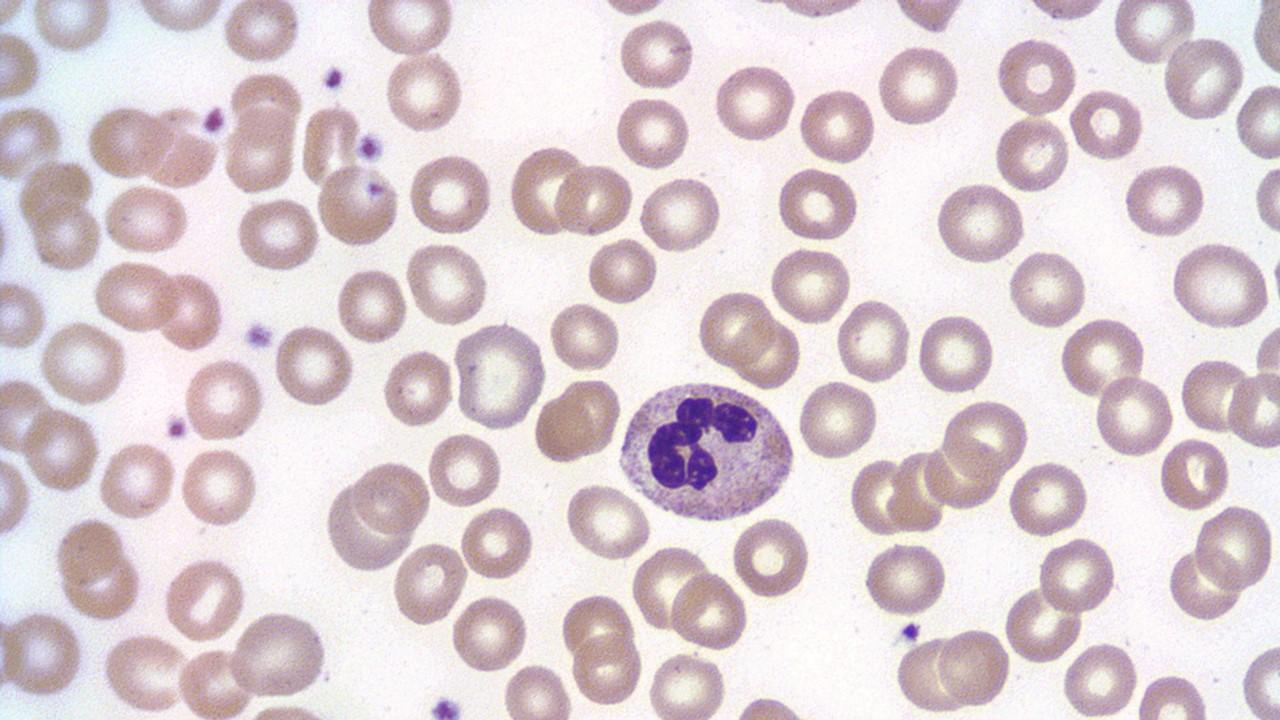Platelets: (241, 318, 276, 353), (426, 691, 468, 720), (355, 129, 386, 165), (200, 101, 228, 138), (164, 410, 192, 442), (898, 620, 924, 643)
RBC: (450, 320, 549, 430), (1169, 238, 1275, 331), (226, 609, 333, 700), (39, 317, 129, 409), (1193, 498, 1277, 596), (506, 142, 588, 240), (932, 180, 1025, 266), (403, 238, 491, 328), (406, 148, 494, 238), (160, 553, 247, 643), (1057, 315, 1147, 402), (1161, 31, 1245, 124), (98, 632, 193, 714), (3, 606, 84, 701), (874, 42, 962, 129), (314, 161, 400, 250), (272, 320, 356, 411), (182, 356, 266, 444), (383, 47, 465, 137), (730, 512, 812, 602), (710, 61, 796, 146), (178, 442, 259, 532), (629, 542, 708, 634), (992, 32, 1076, 118), (768, 243, 854, 327), (1006, 245, 1088, 333), (797, 376, 880, 462), (448, 591, 532, 675), (1037, 532, 1119, 618), (861, 538, 947, 620), (915, 310, 996, 397), (234, 194, 321, 275), (84, 102, 172, 182), (564, 481, 652, 561), (834, 296, 912, 386), (774, 163, 860, 244), (669, 568, 750, 654), (943, 396, 1030, 476), (24, 405, 101, 495), (1003, 581, 1083, 667), (638, 174, 724, 254), (1092, 373, 1172, 459), (798, 82, 878, 168), (96, 438, 177, 522), (1006, 458, 1090, 539), (1121, 161, 1207, 240), (222, 106, 298, 195), (390, 540, 466, 629), (694, 287, 774, 370), (103, 182, 192, 256), (936, 624, 1012, 710), (93, 258, 179, 334), (612, 92, 692, 173), (992, 112, 1071, 194), (1060, 638, 1140, 718), (1177, 354, 1255, 436), (350, 458, 432, 536), (458, 502, 536, 584), (382, 345, 456, 430), (1068, 83, 1146, 163), (615, 15, 696, 92), (335, 264, 409, 348), (921, 438, 1004, 512), (554, 161, 632, 239), (426, 429, 503, 508), (558, 590, 638, 666), (894, 632, 968, 714), (1110, 1, 1198, 69), (157, 268, 226, 354), (1166, 544, 1240, 624), (1157, 433, 1231, 513), (646, 650, 730, 720), (886, 446, 950, 536), (227, 70, 302, 146), (546, 299, 622, 374), (570, 631, 644, 708), (556, 375, 622, 460), (29, 197, 102, 273), (300, 101, 362, 189), (364, 2, 458, 60), (584, 235, 660, 306), (222, 1, 302, 66), (53, 514, 127, 584), (732, 316, 802, 390), (848, 456, 911, 538), (31, 0, 115, 56), (532, 391, 594, 466), (1, 373, 55, 456), (1227, 368, 1279, 450), (500, 659, 572, 718), (1232, 79, 1280, 162), (1134, 670, 1212, 719), (0, 276, 47, 351), (1238, 636, 1280, 718), (132, 0, 226, 36), (0, 28, 43, 102), (888, 0, 970, 35), (0, 604, 29, 701), (0, 451, 31, 541), (1252, 315, 1280, 413), (766, 0, 874, 23), (1250, 3, 1280, 79), (1251, 160, 1280, 237), (1020, 0, 1111, 24), (593, 0, 671, 18)
WBC: (612, 374, 800, 527)
